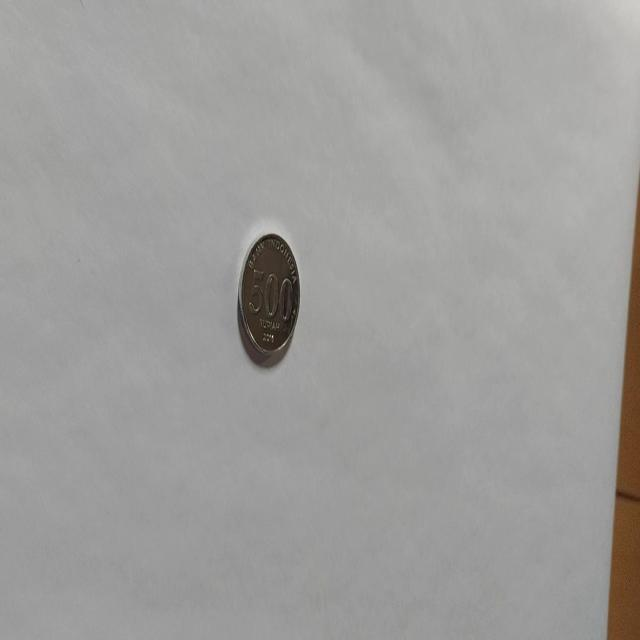lima ratus rupiah: (236, 230, 301, 367)
